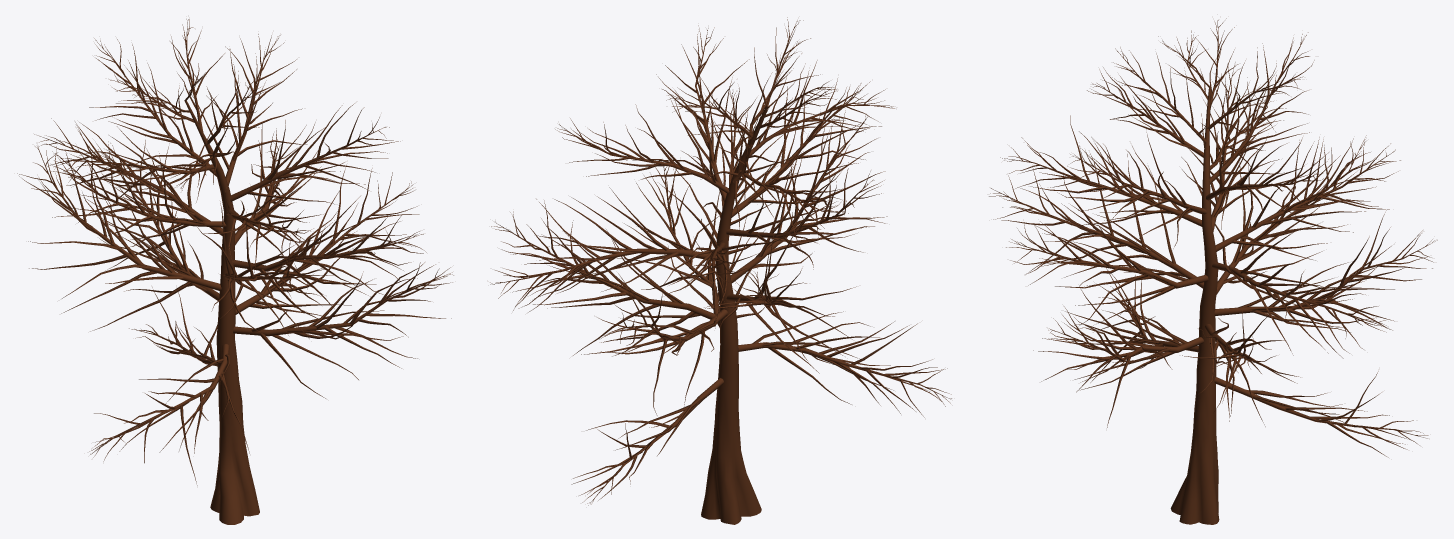
File: Tree.obj
3 views of the same model, side by side, from view 1: azimuth 30°, elevation 25°; view 2: azimuth 150°, elevation 25°; view 3: azimuth 270°, elevation 25° (orthographic). The views are drawn at different scales.
Visible parts, largest first — view 1: Foliage02; view 2: Foliage02; view 3: Foliage02.
Part boxes in pixels (x1,y1,x2,y2): Foliage02: (17,19,453,524); Foliage02: (490,17,951,524); Foliage02: (989,18,1437,524).
Bounding box in the file's own units: 10.12 × 11.42 × 10.27.
